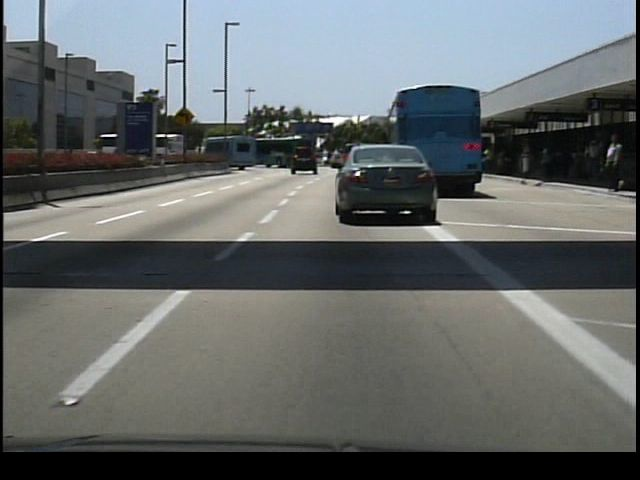person: (602, 131, 628, 196)
